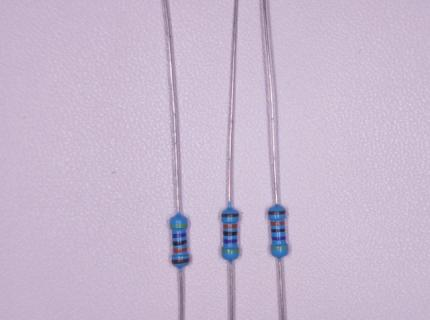Black band: (173, 240, 187, 246), (224, 231, 237, 236), (271, 229, 285, 232)
Brown band: (172, 258, 189, 264), (269, 210, 285, 215), (222, 213, 239, 217)
Orange band: (173, 248, 187, 253), (271, 221, 285, 226), (224, 224, 237, 228)
Violet band: (173, 233, 186, 238), (224, 239, 237, 244), (272, 236, 285, 241)
Yellow band: (222, 248, 239, 253), (171, 224, 188, 228), (271, 246, 288, 250)
